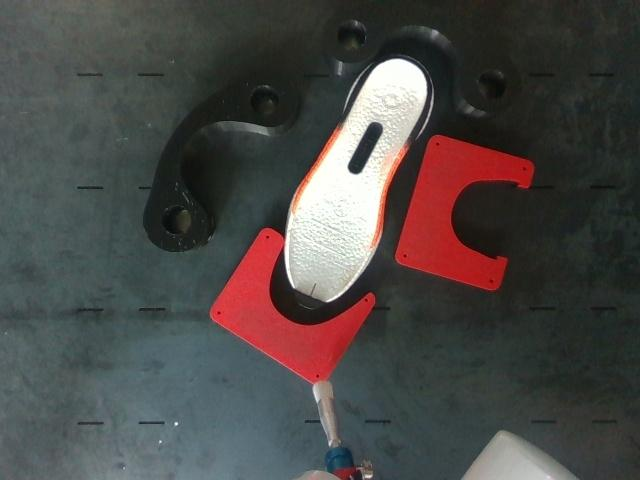shoes: (289, 57, 430, 308)
